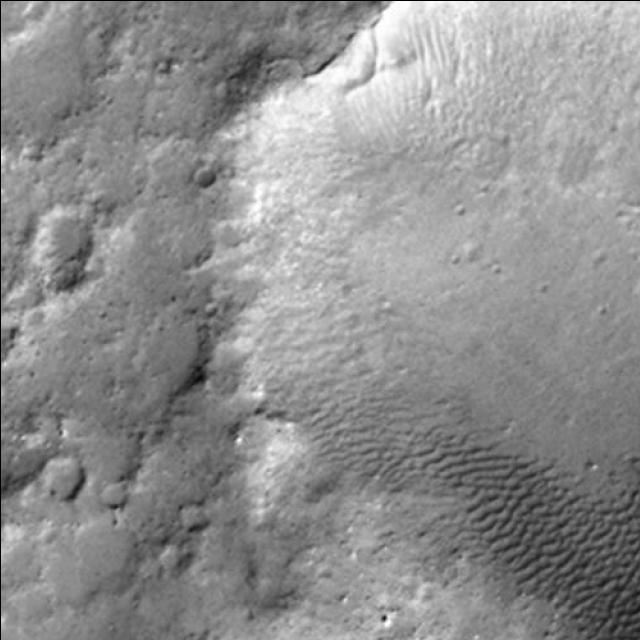crater: (55, 0, 640, 640), (387, 525, 640, 640), (542, 538, 640, 640)
